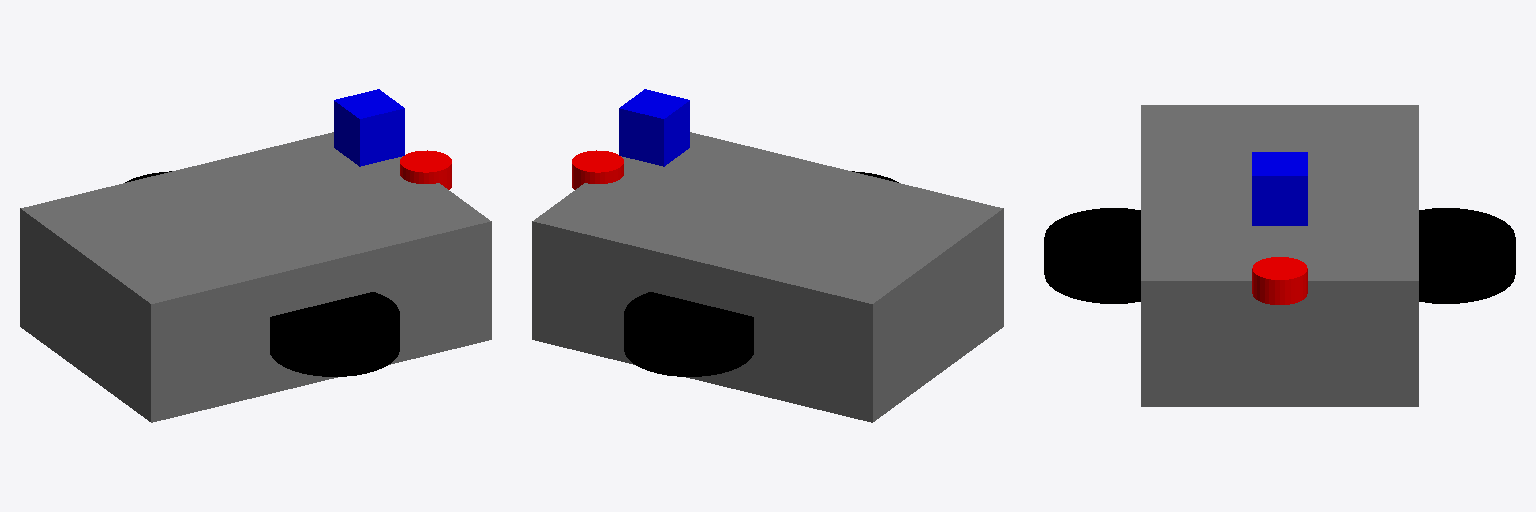
The robot description file, URDF, robot "simple_bot":
<?xml version="1.0" ?>
<!-- =================================================================================== -->
<!-- |    This document was autogenerated by xacro from [local-path]/ros2_ws_forpc/src/simple_bot/urdf/simple_bot.xacro | -->
<!-- |    EDITING THIS FILE BY HAND IS NOT RECOMMENDED                                 | -->
<!-- =================================================================================== -->
<robot name="simple_bot">
  <material name="gray">
    <color rgba="0.5 0.5 0.5 1"/>
  </material>
  <material name="black">
    <color rgba="0 0 0 1"/>
  </material>
  <material name="blue">
    <color rgba="0 0 1 1"/>
  </material>
  <material name="red">
    <color rgba="1 0 0 1"/>
  </material>
  <!-- 기본 몸체 -->
  <link name="base_link">
    <visual>
      <geometry>
        <box size="0.3 0.2 0.1"/>
      </geometry>
      <material name="gray"/>
    </visual>
  </link>
  <!-- 왼쪽 바퀴 -->
  <link name="left_wheel">
    <visual>
      <geometry>
        <cylinder length="0.03" radius="0.05"/>
      </geometry>
      <material name="black"/>
    </visual>
  </link>
  <!-- 오른쪽 바퀴 -->
  <link name="right_wheel">
    <visual>
      <geometry>
        <cylinder length="0.03" radius="0.05"/>
      </geometry>
      <material name="black"/>
    </visual>
  </link>
  <!-- 카메라 -->
  <link name="camera_link">
    <visual>
      <geometry>
        <box size="0.04 0.04 0.04"/>
      </geometry>
      <material name="blue"/>
    </visual>
  </link>
  <!-- 초음파 센서 -->
  <link name="ultrasonic_link">
    <visual>
      <geometry>
        <cylinder length="0.02" radius="0.02"/>
      </geometry>
      <material name="red"/>
    </visual>
  </link>
  <!-- 조인트 -->
  <joint name="left_wheel_joint" type="continuous">
    <parent link="base_link"/>
    <child link="left_wheel"/>
    <origin xyz="0 0.12 0"/>
    <axis xyz="0 1 0"/>
  </joint>
  <joint name="right_wheel_joint" type="continuous">
    <parent link="base_link"/>
    <child link="right_wheel"/>
    <origin xyz="0 -0.12 0"/>
    <axis xyz="0 1 0"/>
  </joint>
  <joint name="camera_joint" type="fixed">
    <parent link="base_link"/>
    <child link="camera_link"/>
    <origin xyz="0.1 0 0.1"/>
  </joint>
  <joint name="ultrasonic_joint" type="fixed">
    <parent link="base_link"/>
    <child link="ultrasonic_link"/>
    <origin xyz="0.15 0 0.05"/>
  </joint>
  <!-- Gazebo 플러그인: 차륜 구동 -->
  <gazebo>
    <plugin filename="libgazebo_ros_diff_drive.so" name="diff_drive">
      <ros>
        <namespace>/simple_bot</namespace>
      </ros>
      <update_rate>50.0</update_rate>
      <left_joint>left_wheel_joint</left_joint>
      <right_joint>right_wheel_joint</right_joint>
      <wheel_separation>0.24</wheel_separation>
      <wheel_diameter>0.1</wheel_diameter>
      <command_topic>cmd_vel</command_topic>
      <odometry_topic>odom</odometry_topic>
      <publish_odom>true</publish_odom>
    </plugin>
  </gazebo>
  <!-- Gazebo 카메라 -->
  <gazebo reference="camera_link">
    <sensor name="camera_sensor" type="camera">
      <update_rate>30.0</update_rate>
      <camera name="head_camera">
        <horizontal_fov>1.3962634</horizontal_fov>
        <image>
          <width>640</width>
          <height>480</height>
          <format>R8G8B8</format>
        </image>
        <clip>
          <near>0.05</near>
          <far>50</far>
        </clip>
      </camera>
      <plugin filename="libgazebo_ros_camera.so" name="camera_controller">
        <ros>
          <namespace>/simple_bot</namespace>
          <argument>camera_info_url</argument>
        </ros>
        <camera_name>camera</camera_name>
        <frame_name>camera_link</frame_name>
      </plugin>
    </sensor>
  </gazebo>
  <!-- Gazebo 초음파 -->
  <gazebo reference="ultrasonic_link">
    <sensor name="ultrasonic_sensor" type="ray">
      <update_rate>10.0</update_rate>
      <ray>
        <scan>
          <horizontal>
            <samples>5</samples>
            <resolution>1</resolution>
            <min_angle>-0.1</min_angle>
            <max_angle>0.1</max_angle>
          </horizontal>
        </scan>
        <range>
          <min>0.02</min>
          <max>2.0</max>
          <resolution>0.01</resolution>
        </range>
      </ray>
      <plugin filename="libgazebo_ros_ray_sensor.so" name="ultrasonic_controller">
        <ros>
          <namespace>/simple_bot</namespace>
        </ros>
        <frame_name>ultrasonic_link</frame_name>
      </plugin>
    </sensor>
  </gazebo>
</robot>

--- What the picture shows (computed from the rendered views, not written in the file) ---
3 views of the same robot in one strip: view 1: azimuth 30°, elevation 25°; view 2: azimuth 150°, elevation 25°; view 3: azimuth 270°, elevation 25° (orthographic).
Model simple_bot with 5 links and 4 joints (2 continuous, 2 fixed), rooted at base_link, posed every joint at zero.
Links seen in each view (by area): view 1: base_link, right_wheel, camera_link, ultrasonic_link; view 2: base_link, left_wheel, camera_link, ultrasonic_link; view 3: base_link, left_wheel, right_wheel, camera_link, ultrasonic_link.
Link boxes in pixels (x1,y1,x2,y2): base_link: [20, 132, 491, 422]; right_wheel: [270, 292, 399, 376]; camera_link: [334, 89, 404, 166]; ultrasonic_link: [400, 150, 451, 189]; base_link: [532, 132, 1003, 422]; left_wheel: [624, 292, 753, 376]; camera_link: [619, 89, 689, 166]; ultrasonic_link: [572, 150, 623, 189]; base_link: [1141, 105, 1418, 406]; left_wheel: [1419, 208, 1515, 303]; right_wheel: [1044, 208, 1140, 303]; camera_link: [1252, 152, 1307, 225]; ultrasonic_link: [1252, 257, 1307, 304].
Size in the robot's own frame: 0.32 by 0.34 by 0.17 metres.
Geometry: primitives only (box / cylinder / sphere), no mesh files.
